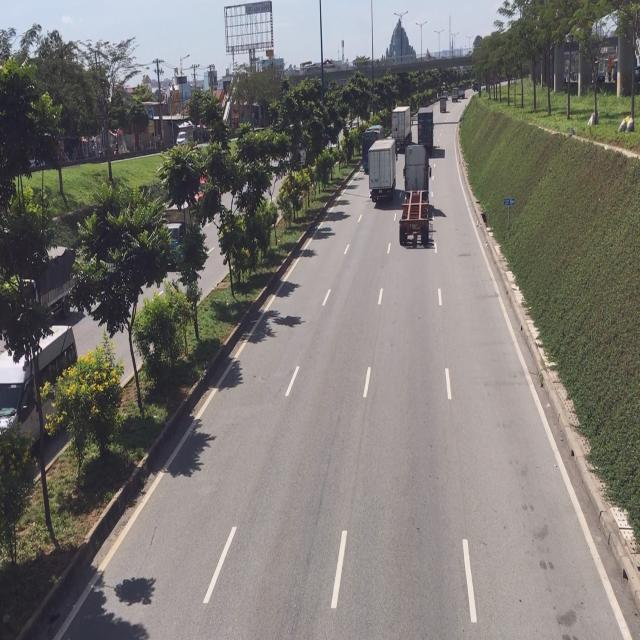truck: (402, 145, 432, 247), (366, 137, 395, 205), (394, 107, 416, 149), (419, 109, 435, 151)
